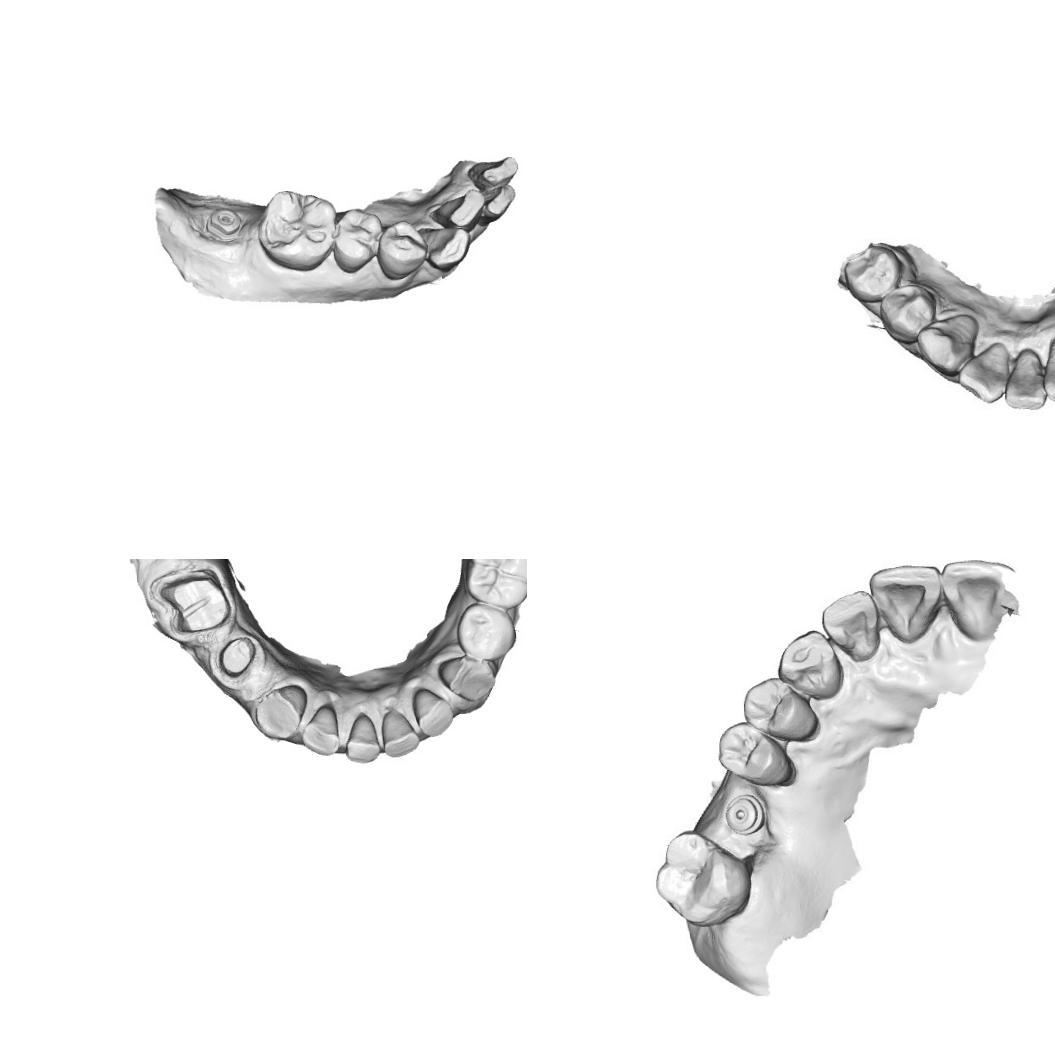canine: (773, 628, 847, 700), (915, 313, 983, 376), (253, 682, 309, 744), (435, 654, 502, 705), (416, 224, 472, 272)
crown: (156, 570, 236, 643), (212, 632, 261, 683)
implant: (714, 796, 777, 840)
implant_minus: (202, 206, 244, 244)
incisor: (870, 563, 945, 647), (939, 559, 1008, 644), (816, 585, 884, 663), (955, 343, 1013, 407), (1001, 348, 1048, 412), (408, 686, 458, 740), (428, 188, 487, 232), (297, 702, 342, 758), (378, 706, 423, 759), (342, 710, 382, 766), (464, 155, 520, 191), (477, 182, 518, 224), (1041, 339, 1055, 407)
molar: (650, 829, 755, 930), (255, 187, 340, 275), (461, 559, 527, 613)
premolar: (736, 678, 820, 742), (712, 717, 788, 787), (840, 237, 905, 304), (454, 600, 518, 664), (330, 205, 386, 276), (374, 219, 430, 281), (882, 282, 939, 340)
